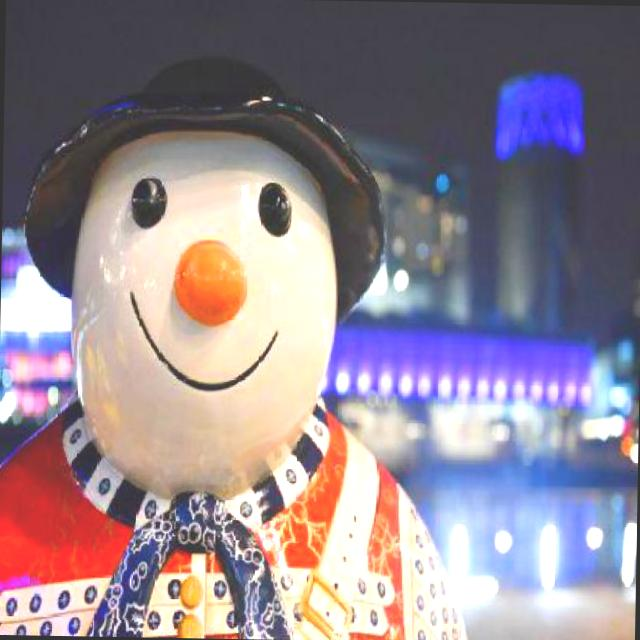Person: (0, 52, 483, 640)
